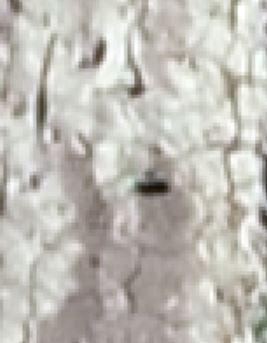cotton: (127, 178, 137, 191)
